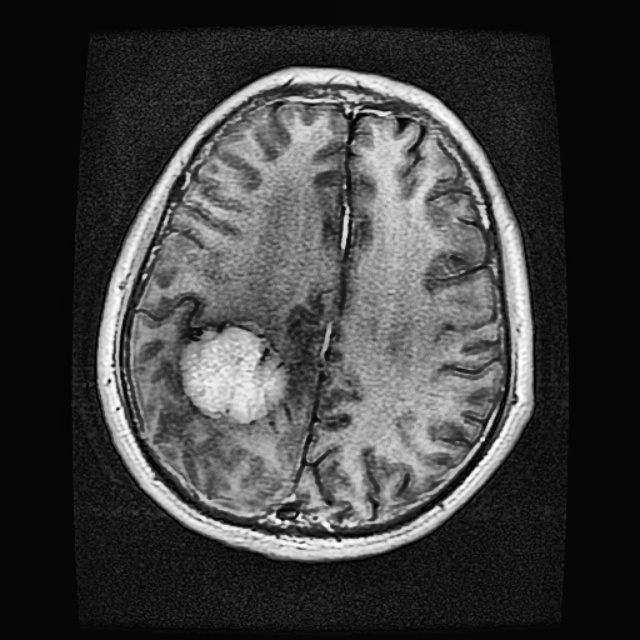Pituitary: (188, 324, 284, 420)
